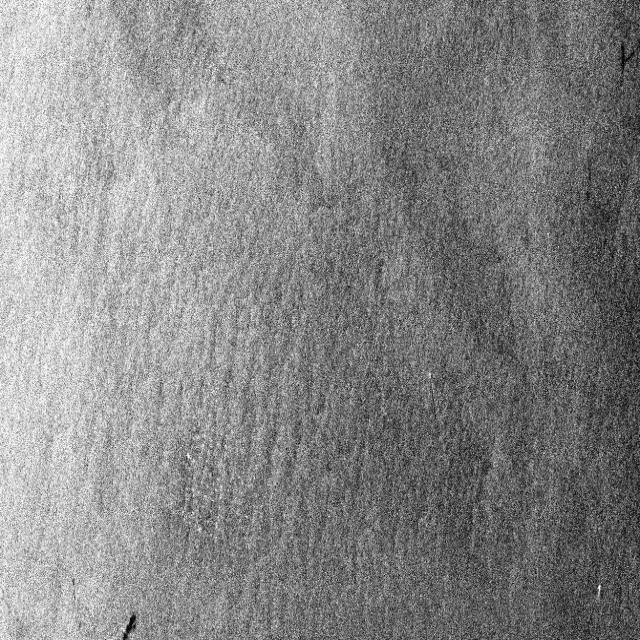look-alike: (612, 37, 633, 78)
oil-spill: (112, 612, 140, 638)
